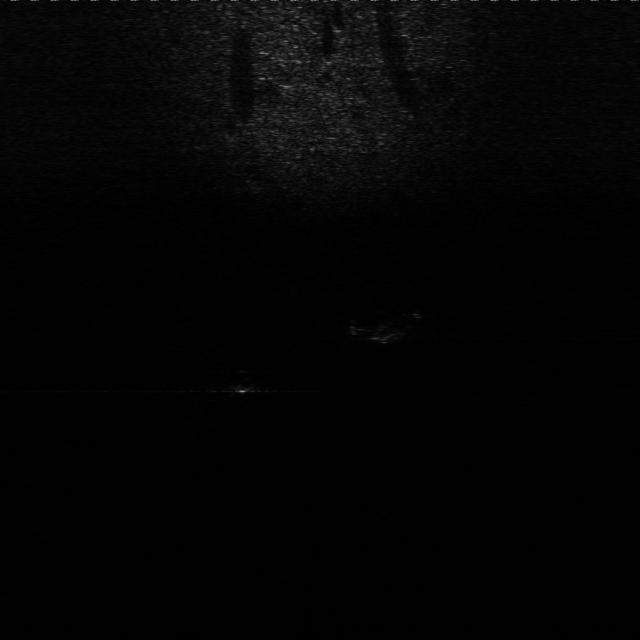ball: (229, 367, 262, 395)
human body: (347, 310, 431, 346)
